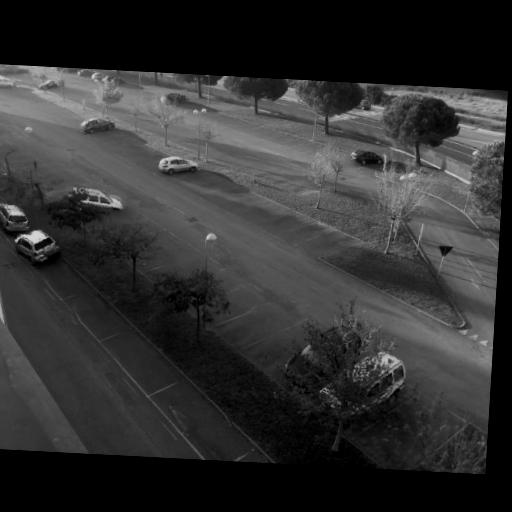busy: (345, 351, 407, 400), (13, 228, 64, 268), (68, 187, 127, 219), (0, 204, 37, 237), (153, 156, 201, 178), (348, 147, 390, 170), (79, 116, 116, 137), (158, 89, 189, 107), (37, 79, 65, 93), (0, 76, 15, 90)
free: (379, 413, 441, 460), (183, 407, 234, 444), (69, 296, 111, 329), (263, 335, 302, 363), (220, 291, 260, 317), (119, 343, 157, 369), (241, 317, 279, 338), (42, 266, 74, 290), (175, 258, 207, 281), (212, 270, 242, 294), (297, 238, 334, 257), (287, 222, 319, 243), (270, 208, 298, 231), (154, 248, 183, 267), (120, 144, 156, 159), (108, 208, 137, 225), (93, 128, 121, 144), (249, 207, 273, 224), (61, 112, 90, 126), (213, 187, 240, 202), (108, 137, 135, 150), (11, 90, 36, 103), (227, 197, 251, 210), (291, 179, 311, 194), (46, 107, 71, 119), (28, 98, 54, 109), (296, 142, 319, 154), (200, 183, 222, 195), (285, 138, 300, 149), (272, 130, 285, 142), (230, 117, 243, 126), (249, 121, 260, 128)
